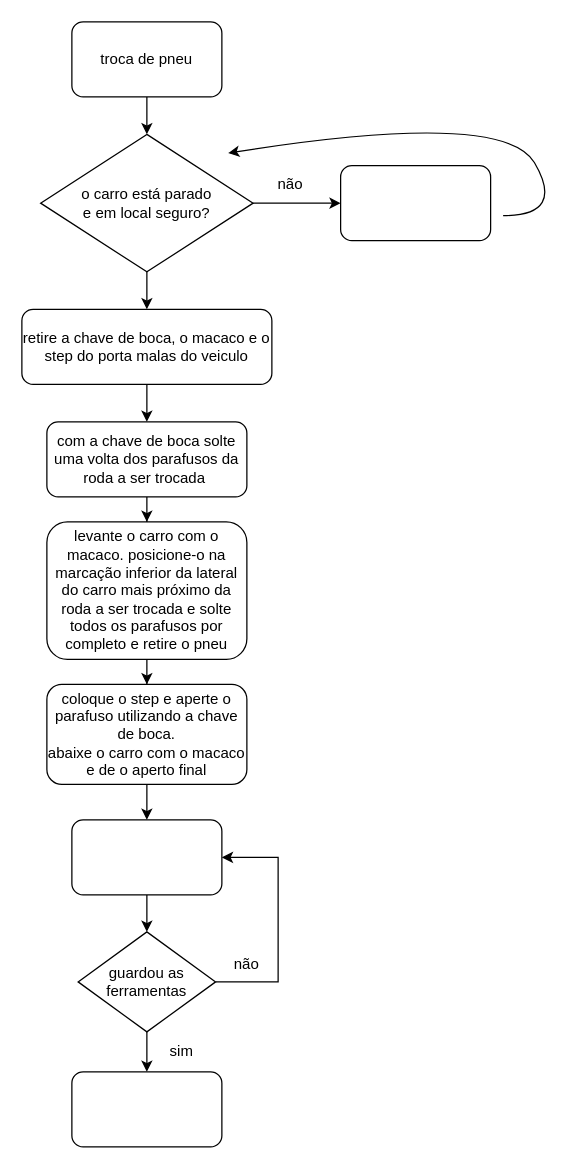
The diagram is 568 pixels wide and 1169 high, and some of its shapes have lost their labels. Each missing label, with the box of its shape:
guarde as ferramentas e pneu no porta malas do carro: (71, 819, 222, 895)
parar o carro em local seguro: (339, 164, 491, 241)
troca realizada com sucesso: (71, 1071, 222, 1147)
